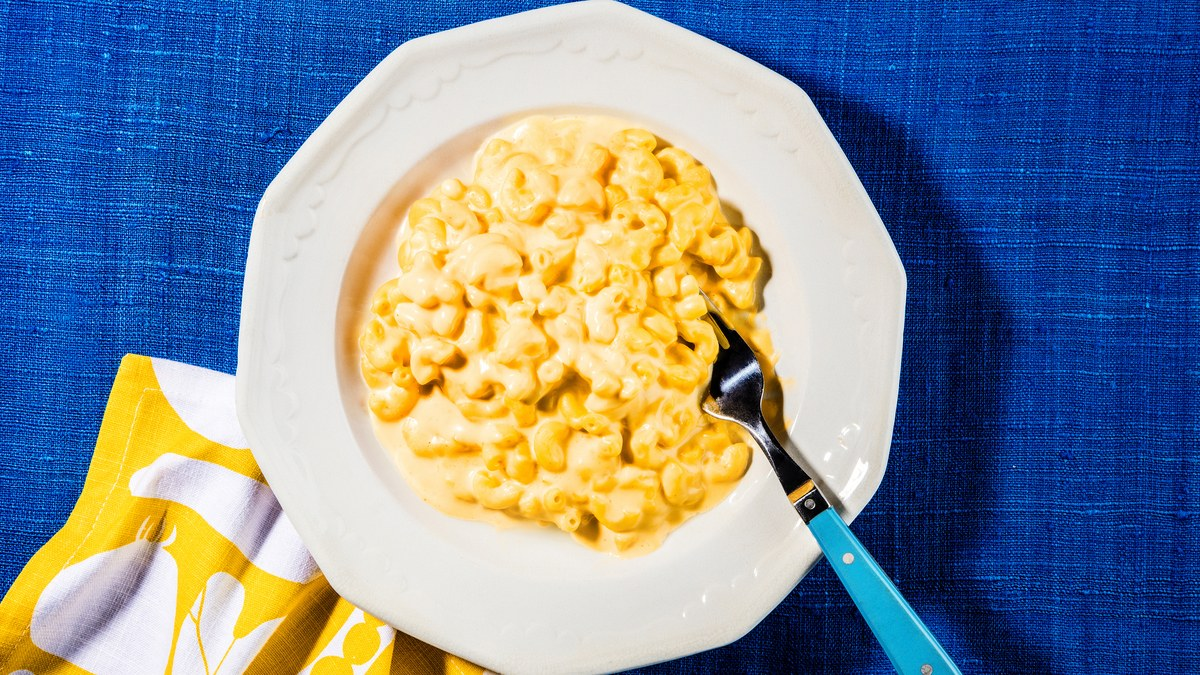macncheese: (308, 68, 853, 573)
